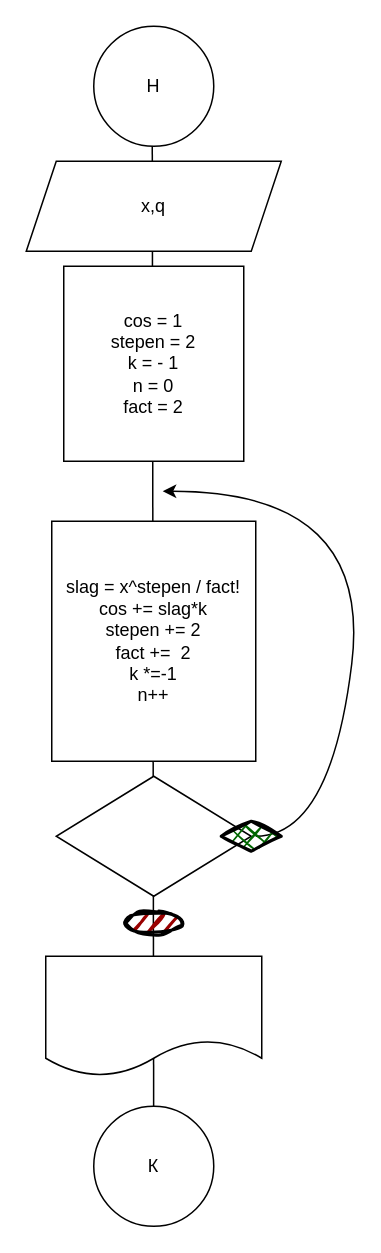
This 381x1253 diagram has some shape labels left out. The box of each missing label's shape, as (x1, y1, x2, y2) in pixels:
cos(x) = cos кол-во слагаемых = n: (44, 955, 262, 1076)
while |slag| > q: (55, 775, 251, 896)
